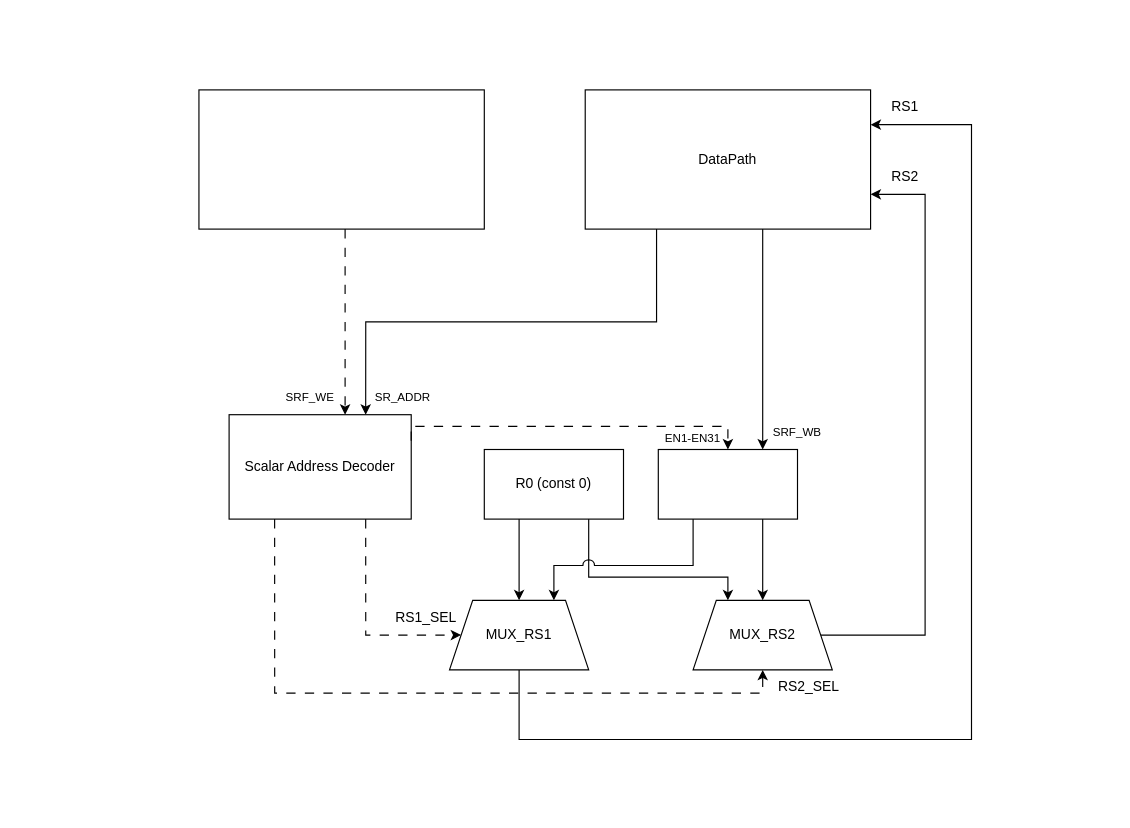
Image size: 1130x828. Some labels were removed from this diagram. The centre of each missing label's shape, as x and y in pixels:
"Control Unit" goes at pixel 341 159.
"R1-R31" goes at pixel 727 483.
